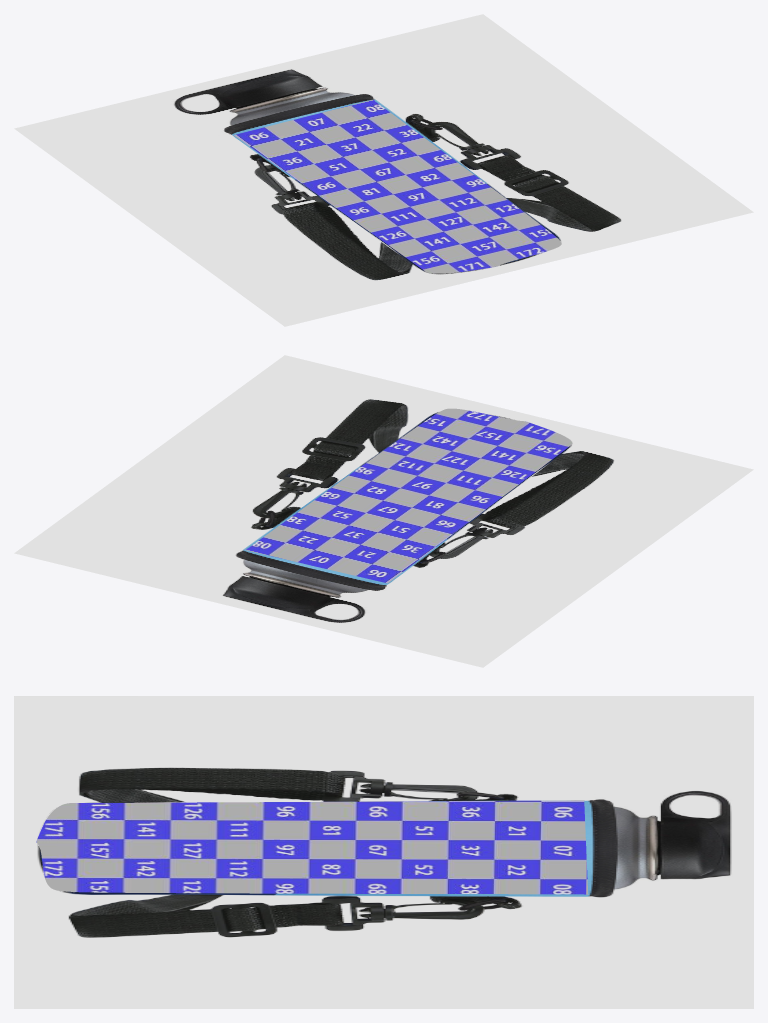
The picture shows the model from 3 angles, top to bottom: view 1: azimuth 30°, elevation 25°; view 2: azimuth 150°, elevation 25°; view 3: azimuth 270°, elevation 25°; orthographic projection. The views are drawn at different scales.
Visible parts, largest first — view 1: 大水壶袋@@@@@4a0cfbf0443947a192fb961dd7806555, BezierCurve; view 2: 大水壶袋@@@@@4a0cfbf0443947a192fb961dd7806555, BezierCurve; view 3: 大水壶袋@@@@@4a0cfbf0443947a192fb961dd7806555, BezierCurve.
Part boxes in pixels (bbox=[...]): 大水壶袋@@@@@4a0cfbf0443947a192fb961dd7806555: bbox=[14, 14, 753, 326]; BezierCurve: bbox=[234, 99, 561, 273]; 大水壶袋@@@@@4a0cfbf0443947a192fb961dd7806555: bbox=[14, 355, 753, 667]; BezierCurve: bbox=[245, 408, 572, 583]; 大水壶袋@@@@@4a0cfbf0443947a192fb961dd7806555: bbox=[14, 696, 753, 1008]; BezierCurve: bbox=[36, 800, 588, 894].
Bounding box in the file's own units: 9.87 × 0.01 × 9.87.
Materials: 2 (2 with a texture image).
